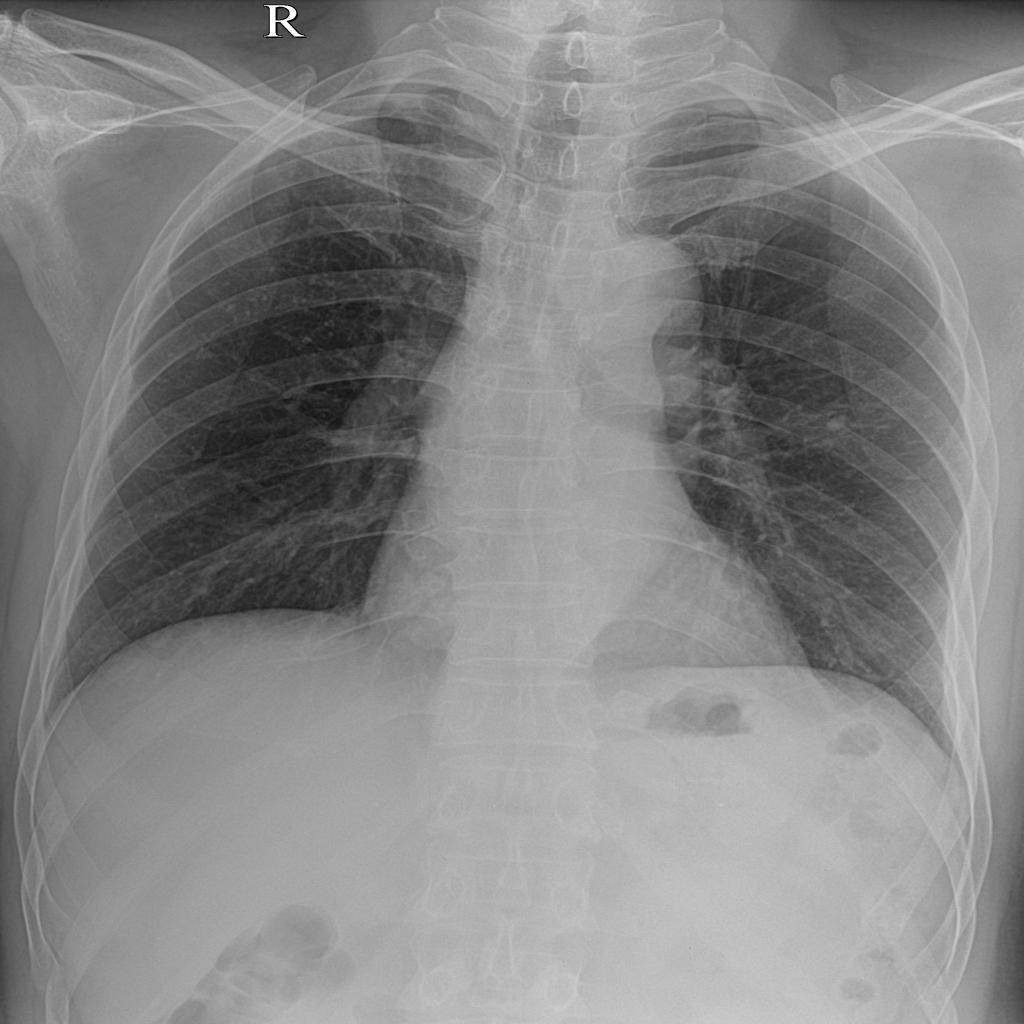Nodule: (813, 411, 857, 435)
